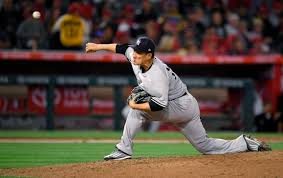baseball player: (82, 33, 274, 165), (30, 8, 43, 21)
